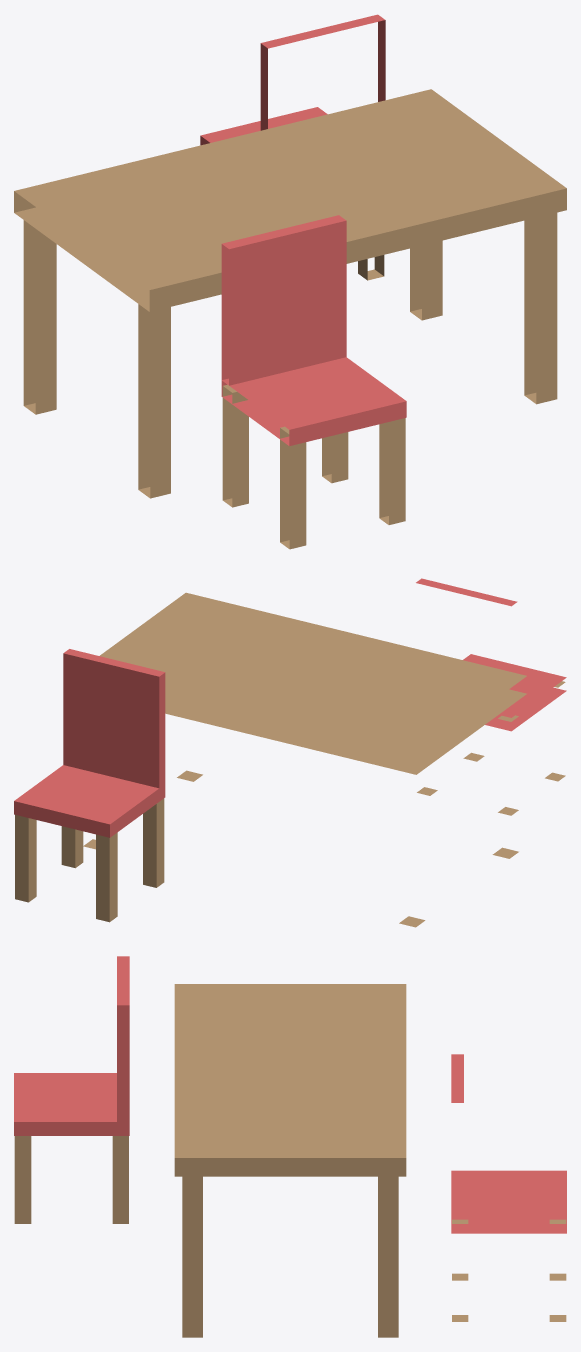
Rendered from table.gltf.
The picture shows the model from 3 angles, top to bottom: view 1: azimuth 30°, elevation 25°; view 2: azimuth 150°, elevation 25°; view 3: azimuth 270°, elevation 25°; orthographic projection. The views are drawn at different scales.
Parts seen in each view (by area): view 1: table, back, seat, leg 0, leg 3, leg 2, chair leg 0, chair leg 2, chair leg 3, leg 1, back b, chair leg 1 (+1 smaller); view 2: table, back b, seat b, leg (×4), seat, back; view 3: table, seat b, seat, leg 1, leg 3, back, chair leg 3, chair leg 1, back b.
Boxes of the visible parts, left/top/right/bottom form: table: left=14, top=89, right=566, bottom=311; back: left=221, top=215, right=346, bottom=385; seat: left=221, top=357, right=406, bottom=445; leg 0: left=23, top=210, right=56, bottom=414; leg 3: left=524, top=212, right=557, bottom=404; leg 2: left=138, top=296, right=170, bottom=498; chair leg 0: left=222, top=384, right=248, bottom=507; chair leg 2: left=280, top=426, right=306, bottom=549; chair leg 3: left=379, top=418, right=405, bottom=524; leg 1: left=410, top=240, right=442, bottom=320; back b: left=260, top=14, right=385, bottom=130; chair leg 1: left=322, top=432, right=348, bottom=483; table: left=100, top=592, right=526, bottom=774; back b: left=63, top=649, right=165, bottom=788; seat b: left=14, top=765, right=165, bottom=837; leg (×4): left=15, top=798, right=164, bottom=922; seat: left=463, top=654, right=566, bottom=731; back: left=416, top=578, right=517, bottom=717; table: left=174, top=984, right=406, bottom=1176; seat b: left=451, top=1170, right=566, bottom=1233; seat: left=14, top=1073, right=129, bottom=1135; leg 1: left=378, top=1176, right=398, bottom=1337; leg 3: left=182, top=1176, right=202, bottom=1337; back: left=117, top=956, right=129, bottom=1121; chair leg 3: left=14, top=1136, right=31, bottom=1223; chair leg 1: left=112, top=1136, right=128, bottom=1223; back b: left=451, top=1054, right=463, bottom=1219.
Size of the model in its own units: 1.6 by 0.98 by 2.15.
